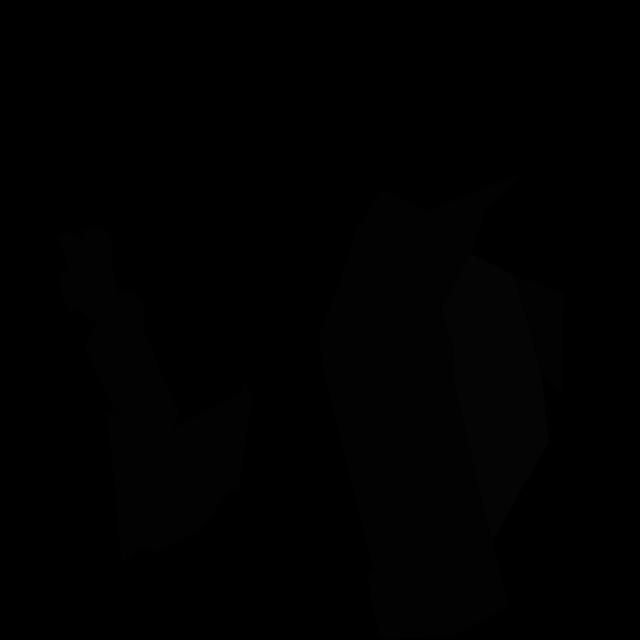cardboard: (319, 173, 523, 639), (107, 374, 253, 563), (58, 229, 180, 429), (515, 275, 564, 393)
soft_plastic: (441, 253, 549, 541)
